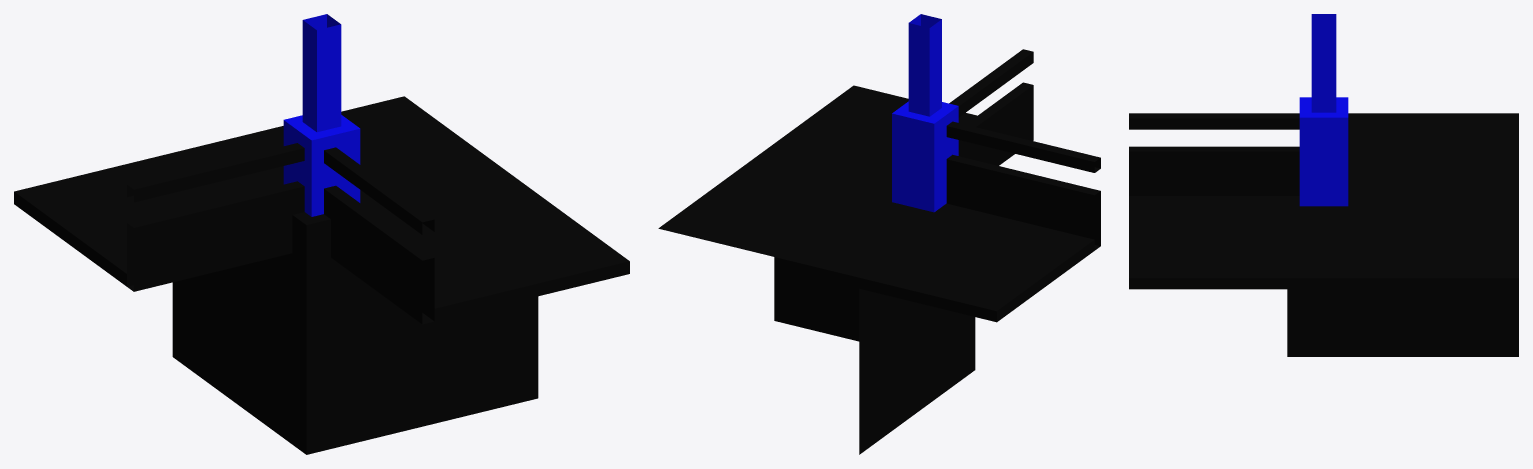
Rendered from None_W_P_E_E_P_E_E_E_BigStrut.fbx.
The picture shows the model from 3 angles, left to right: view 1: azimuth 30°, elevation 25°; view 2: azimuth 150°, elevation 25°; view 3: azimuth 270°, elevation 25°; orthographic projection. The views are drawn at different scales.
Visible parts, largest first — view 1: None_W_P_E_E_P_E_E_E_BigStrut; view 2: None_W_P_E_E_P_E_E_E_BigStrut; view 3: None_W_P_E_E_P_E_E_E_BigStrut.
Boxes of the visible parts, x1,y1,x2,y2 form: None_W_P_E_E_P_E_E_E_BigStrut: [14, 14, 629, 454]; None_W_P_E_E_P_E_E_E_BigStrut: [658, 14, 1100, 454]; None_W_P_E_E_P_E_E_E_BigStrut: [1129, 14, 1518, 356].
Size of the model in its own units: 100 by 100 by 100.
